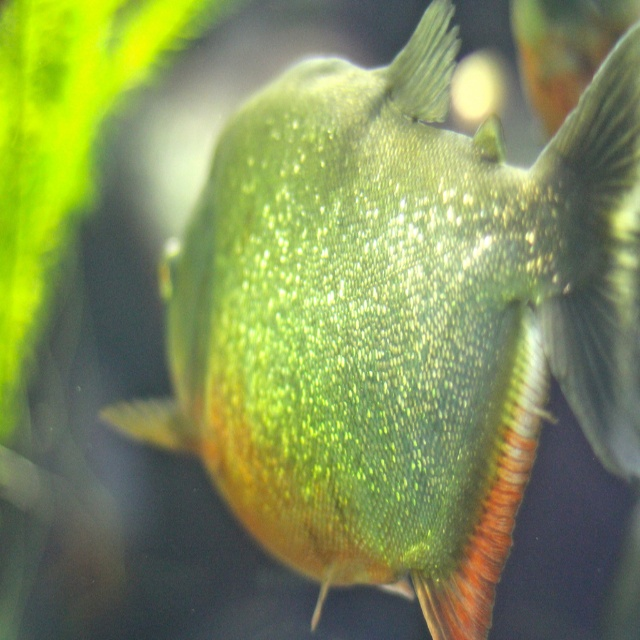Fish: (104, 19, 635, 636)
